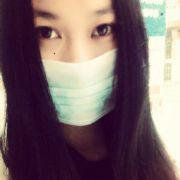WRONG: (15, 10, 134, 129)
